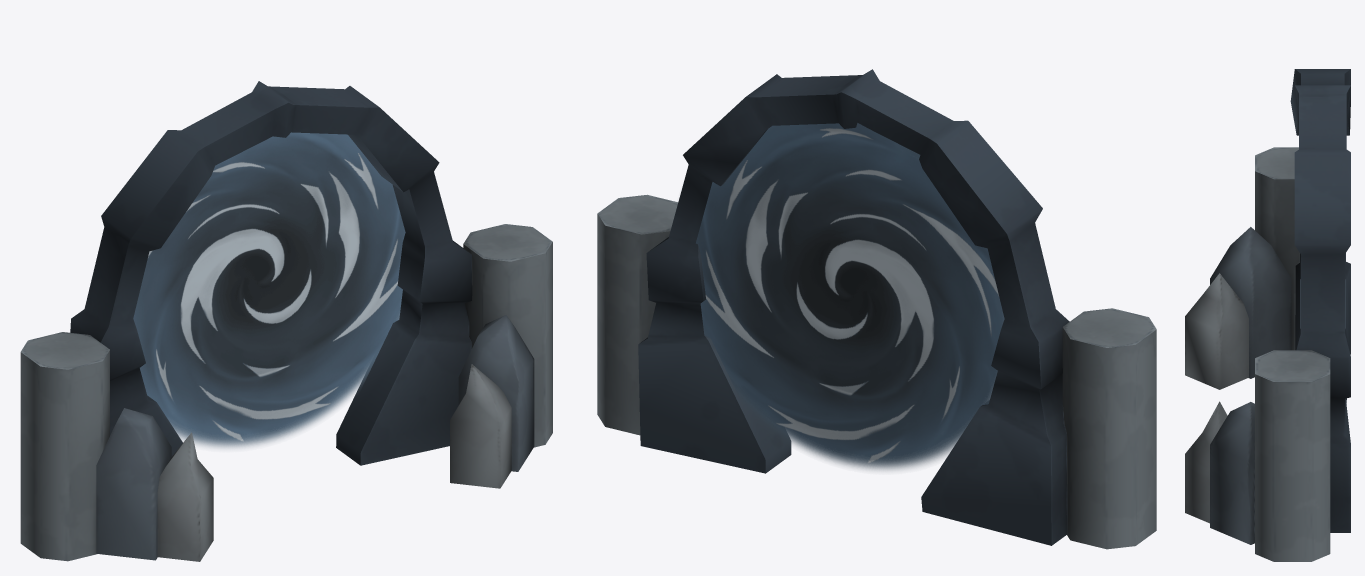
Rendered from portal.glb.
3 views of the same model, side by side, from view 1: azimuth 30°, elevation 25°; view 2: azimuth 150°, elevation 25°; view 3: azimuth 270°, elevation 25° (orthographic). The views are drawn at different scales.
Parts seen in each view (by area): view 1: portal, spin; view 2: portal, spin; view 3: portal.
Part boxes in pixels (x1,y1,x2,y2): portal: [20, 81, 552, 561]; spin: [133, 132, 405, 448]; portal: [597, 69, 1156, 549]; spin: [696, 123, 1004, 470]; portal: [1185, 69, 1350, 561].
Bounding box in the file's own units: 0.3704 × 0.3633 × 0.1106.
Materials: 2 (2 with a texture image).
